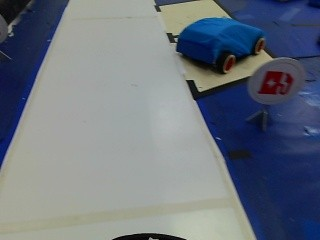battery: (251, 57, 299, 103)
car: (168, 16, 263, 73)
